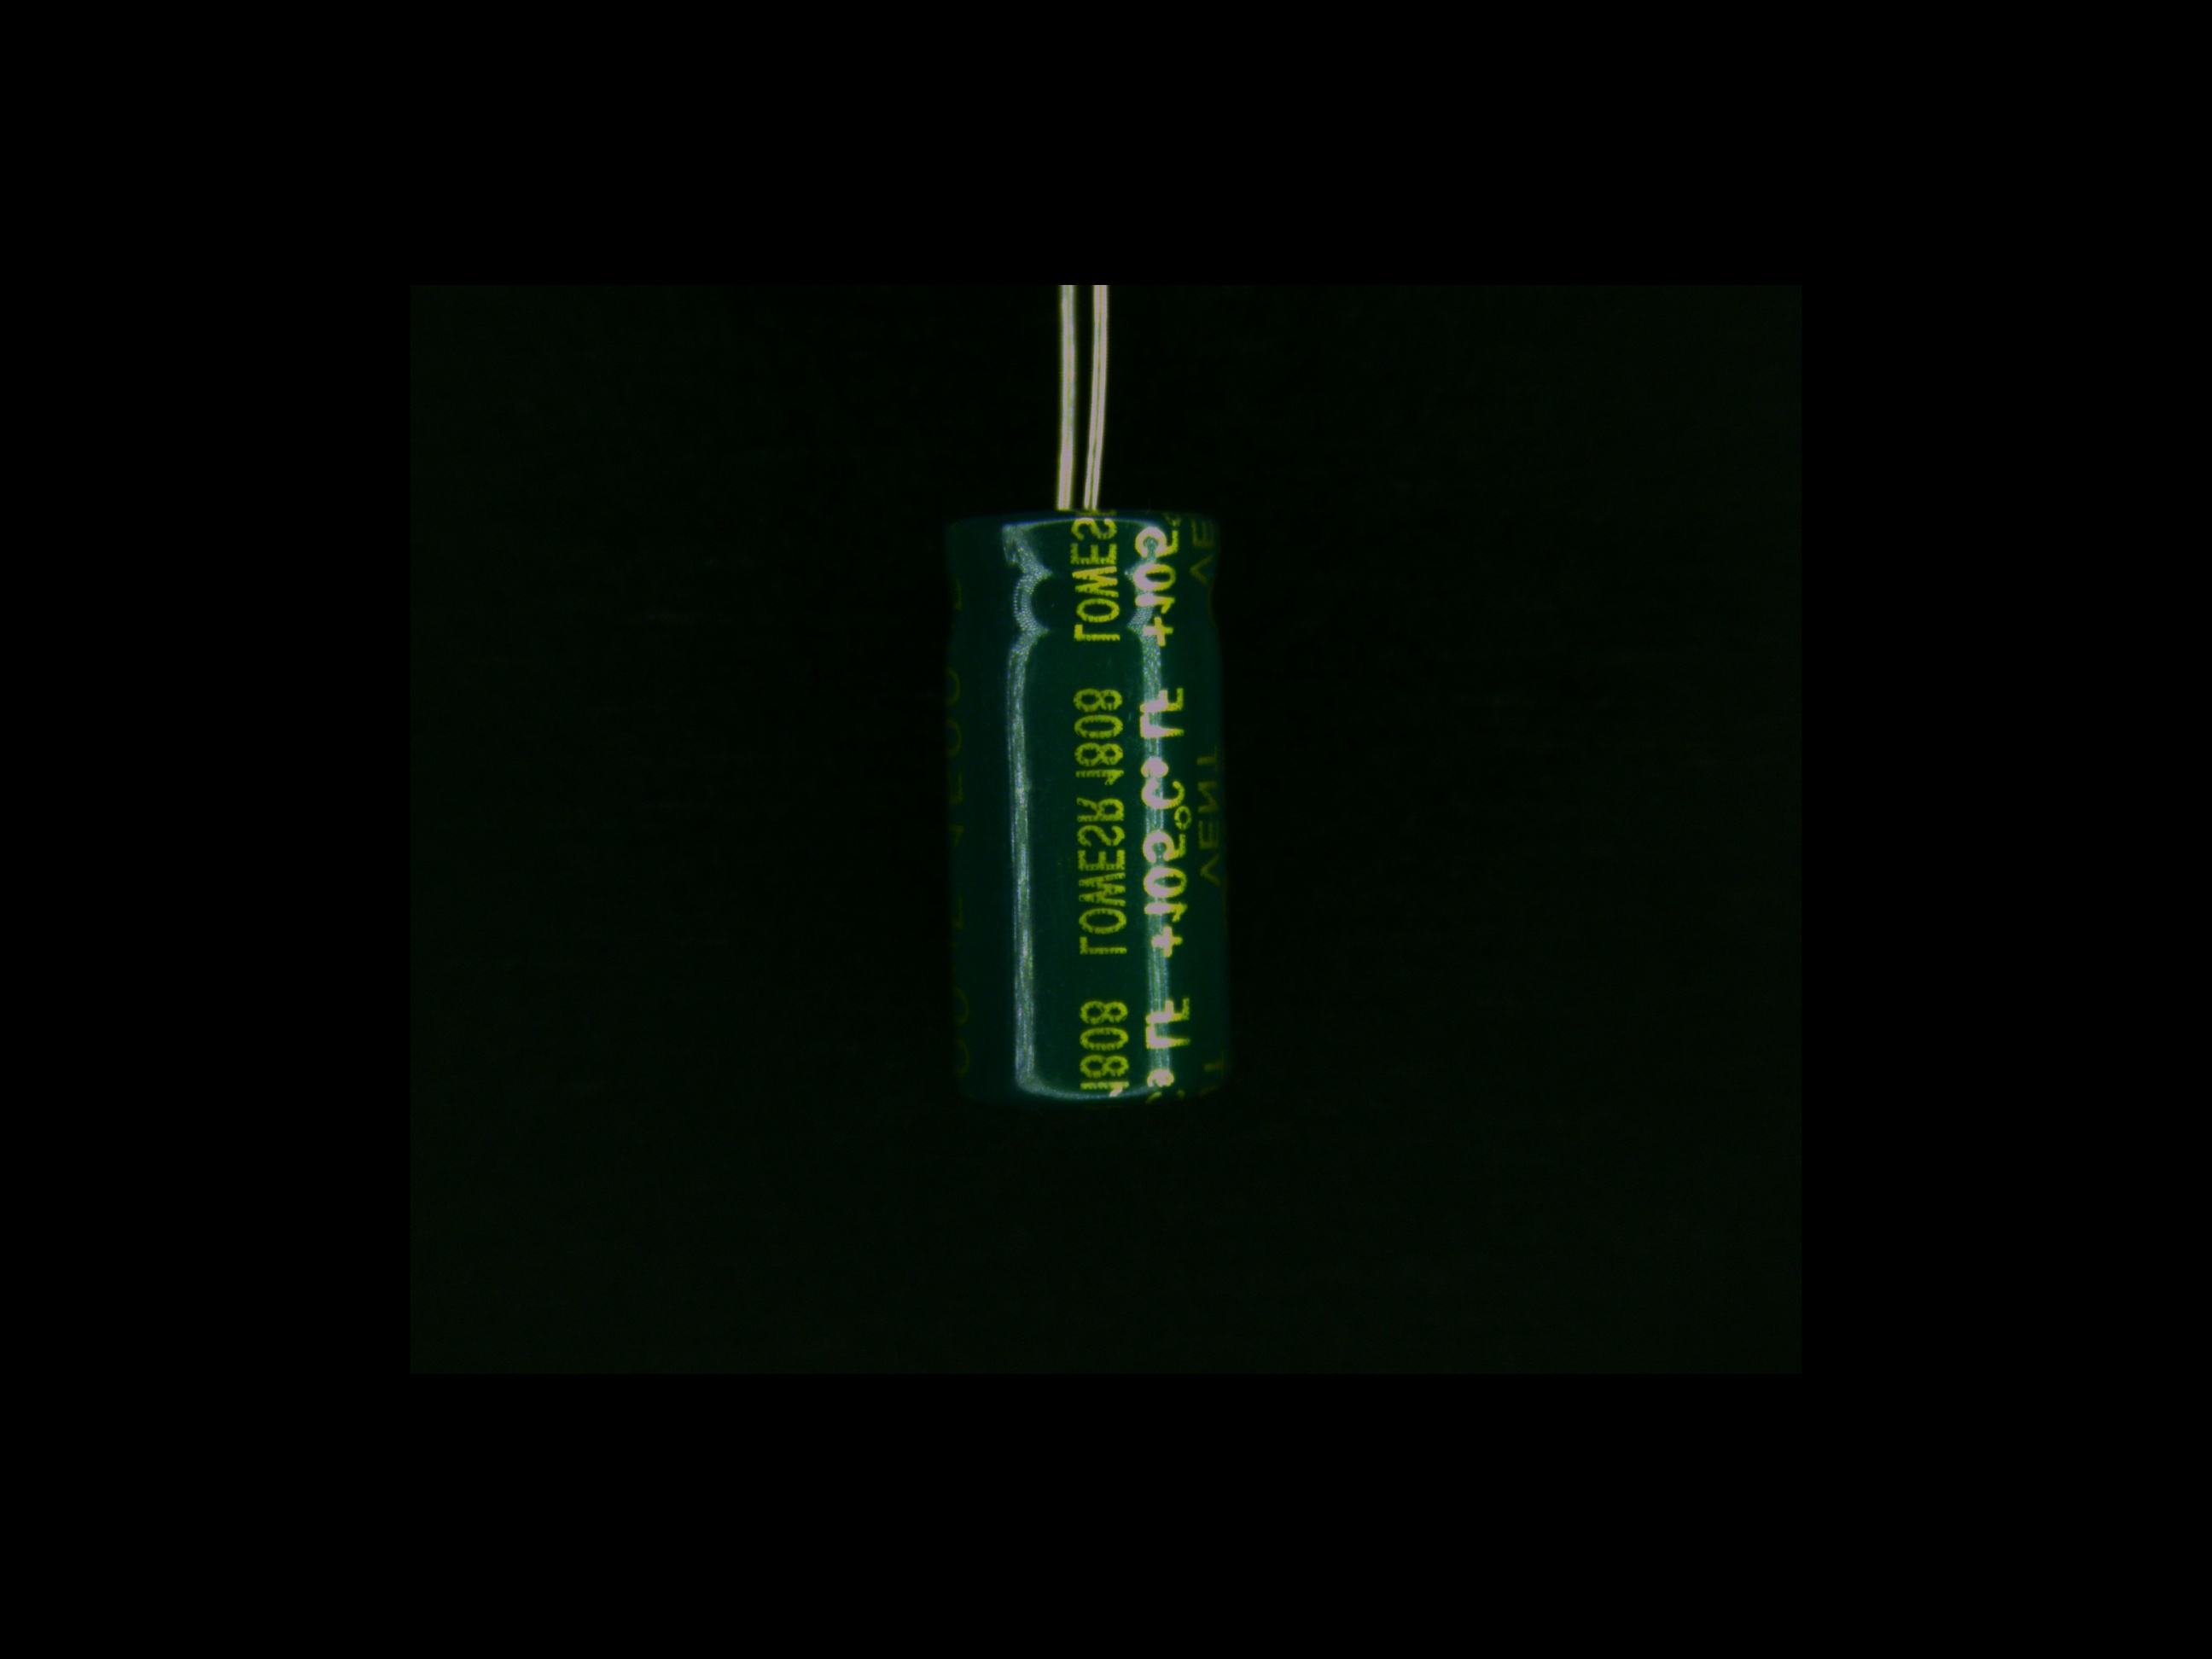c1: (935, 479, 1235, 1103)
